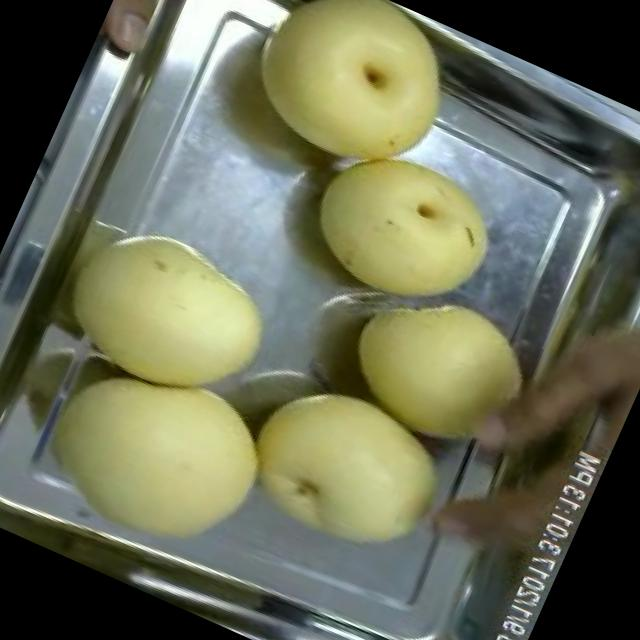Fruit: (4, 318, 300, 590), (36, 193, 307, 442), (212, 347, 478, 588), (279, 115, 527, 347), (316, 250, 561, 480), (218, 0, 486, 206), (88, 0, 237, 88)
